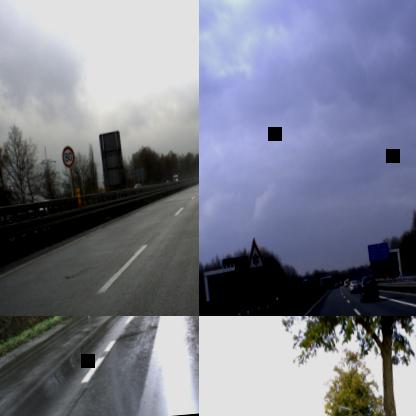SNOW: (244, 237, 267, 272)
speed limit 80: (61, 144, 76, 168)
